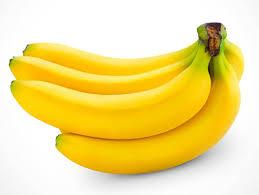banana: (8, 22, 245, 175)
